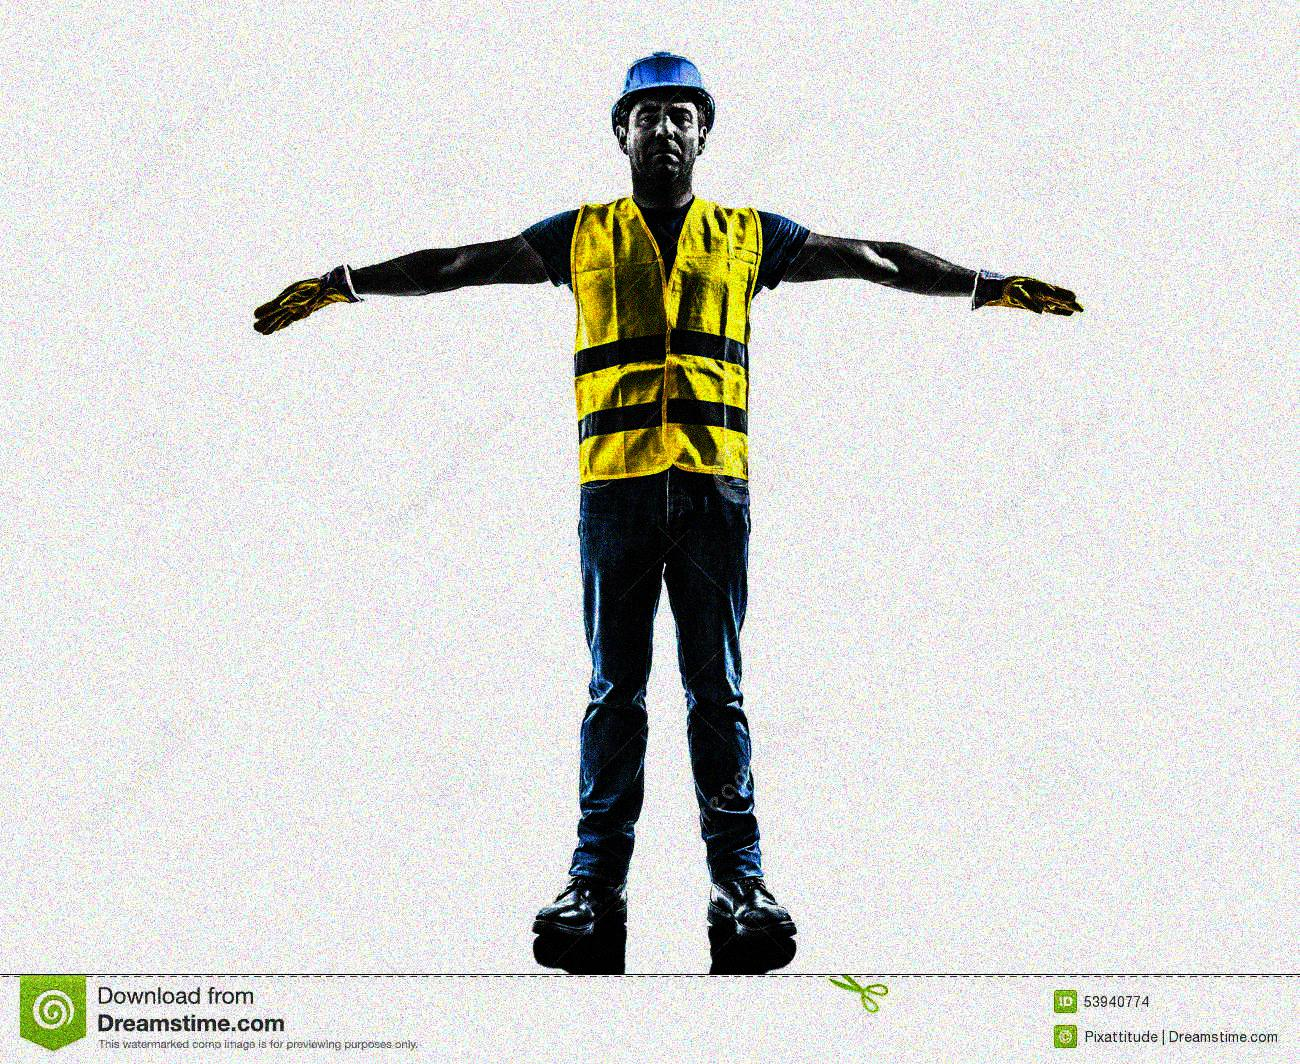helmet: (605, 45, 714, 186)
